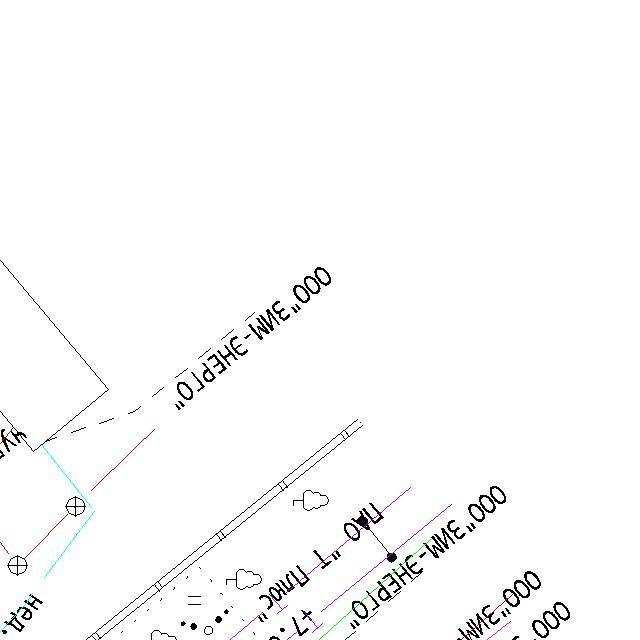tree: (292, 488, 331, 513), (225, 567, 263, 591)
well: (5, 553, 30, 578), (64, 494, 88, 519)
